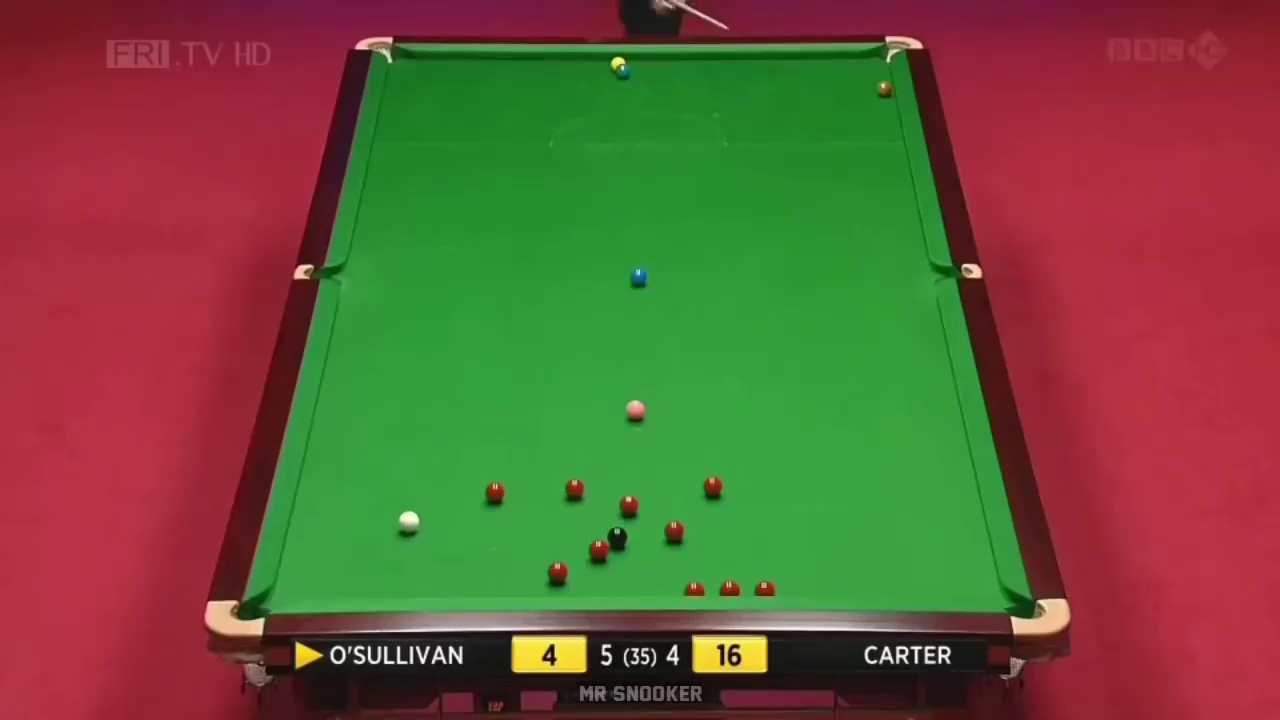black: (607, 526, 628, 547)
blue: (631, 266, 646, 286)
brown: (877, 82, 892, 96)
green: (616, 62, 631, 78)
pink: (627, 400, 648, 422)
red: (484, 482, 505, 502), (549, 564, 569, 585), (618, 495, 639, 514), (703, 477, 722, 498), (590, 539, 608, 561), (665, 521, 684, 540), (567, 481, 586, 499)
white: (397, 513, 424, 534)
